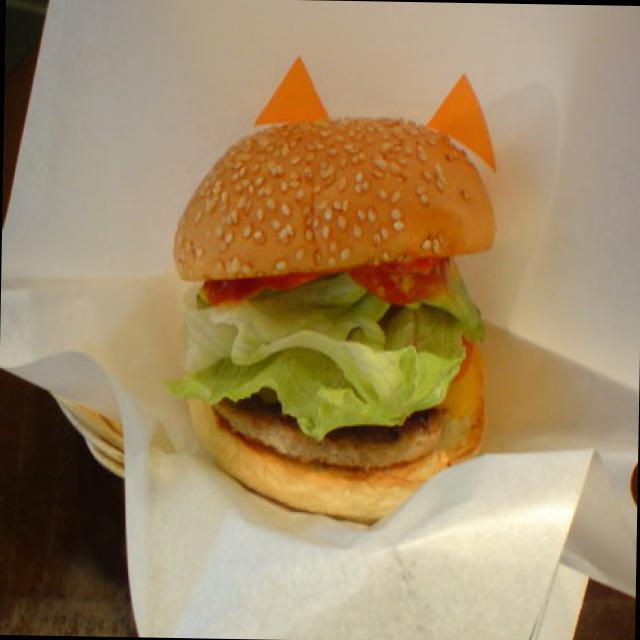Hamburger: (152, 100, 514, 528)
